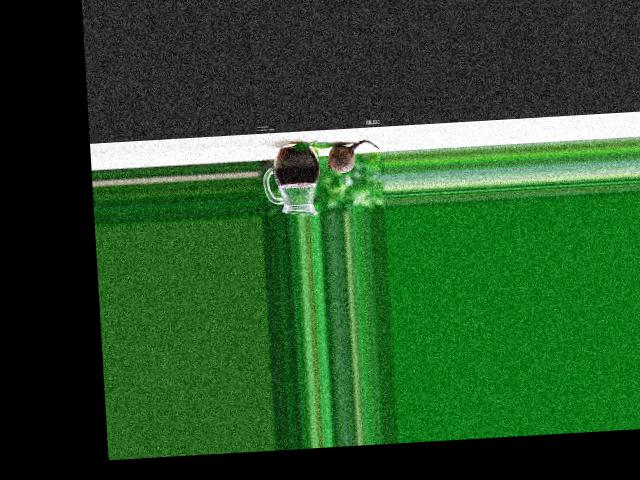beet: (326, 138, 379, 173)
